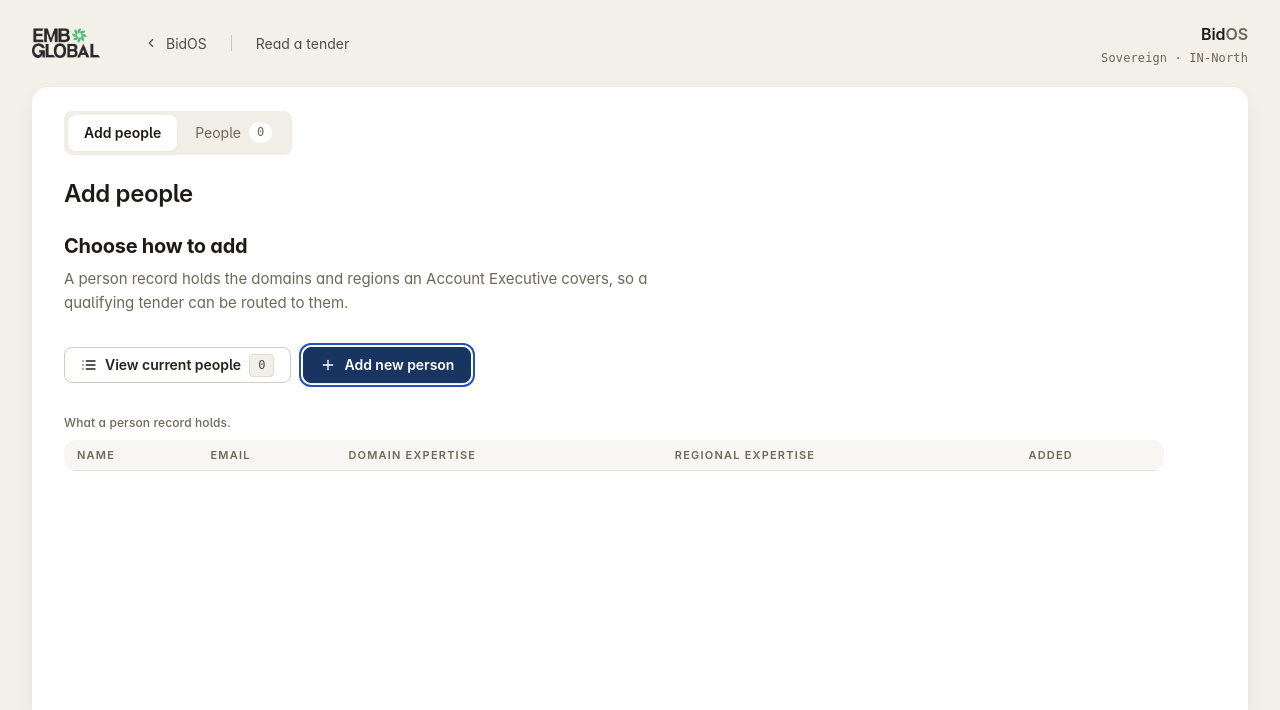
Add people, state A › reveals the form in place rather than navigating
Click the button "Add new person" at (387, 365), box [304,347,471,383]
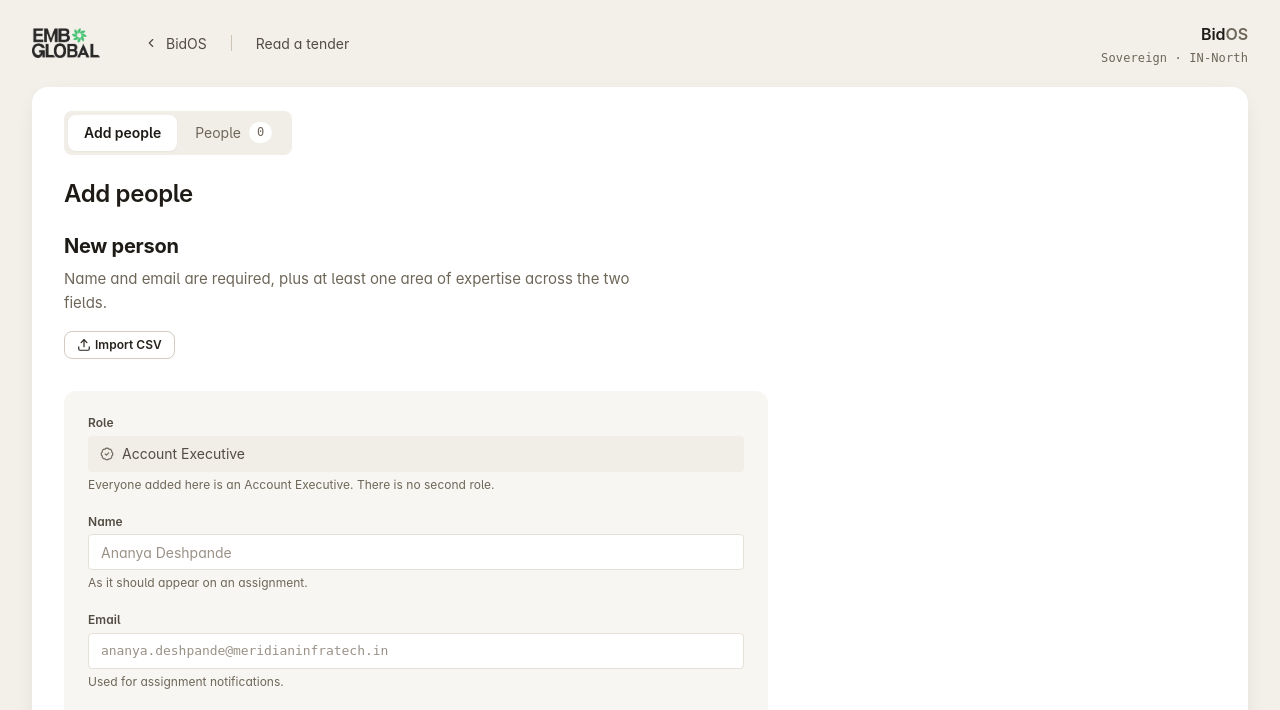
Check: the field labelled "Name" is shown, box [101,542,731,563]
Check: the button "Add new person" is gone
